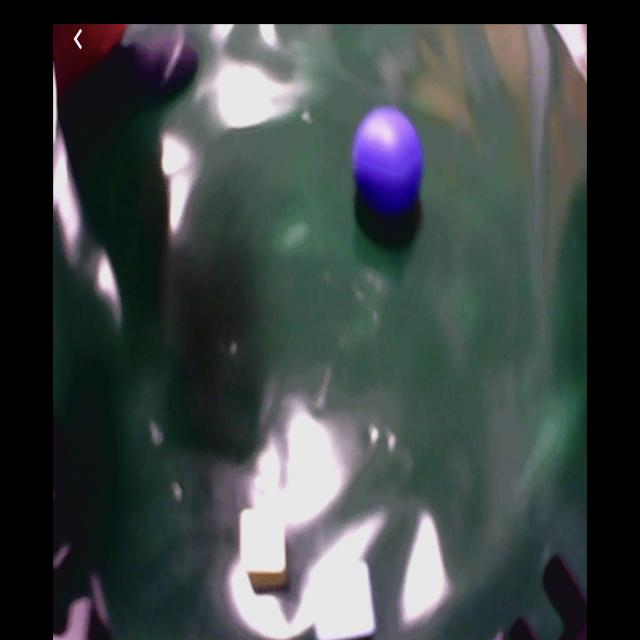ball: (355, 108, 425, 220)
